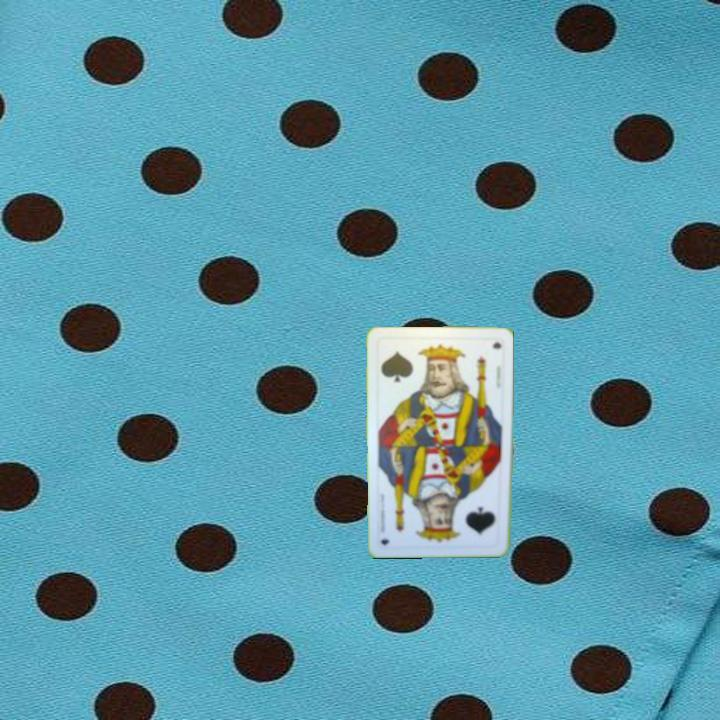s_k.png: (437, 489, 504, 547), (375, 336, 442, 394)
